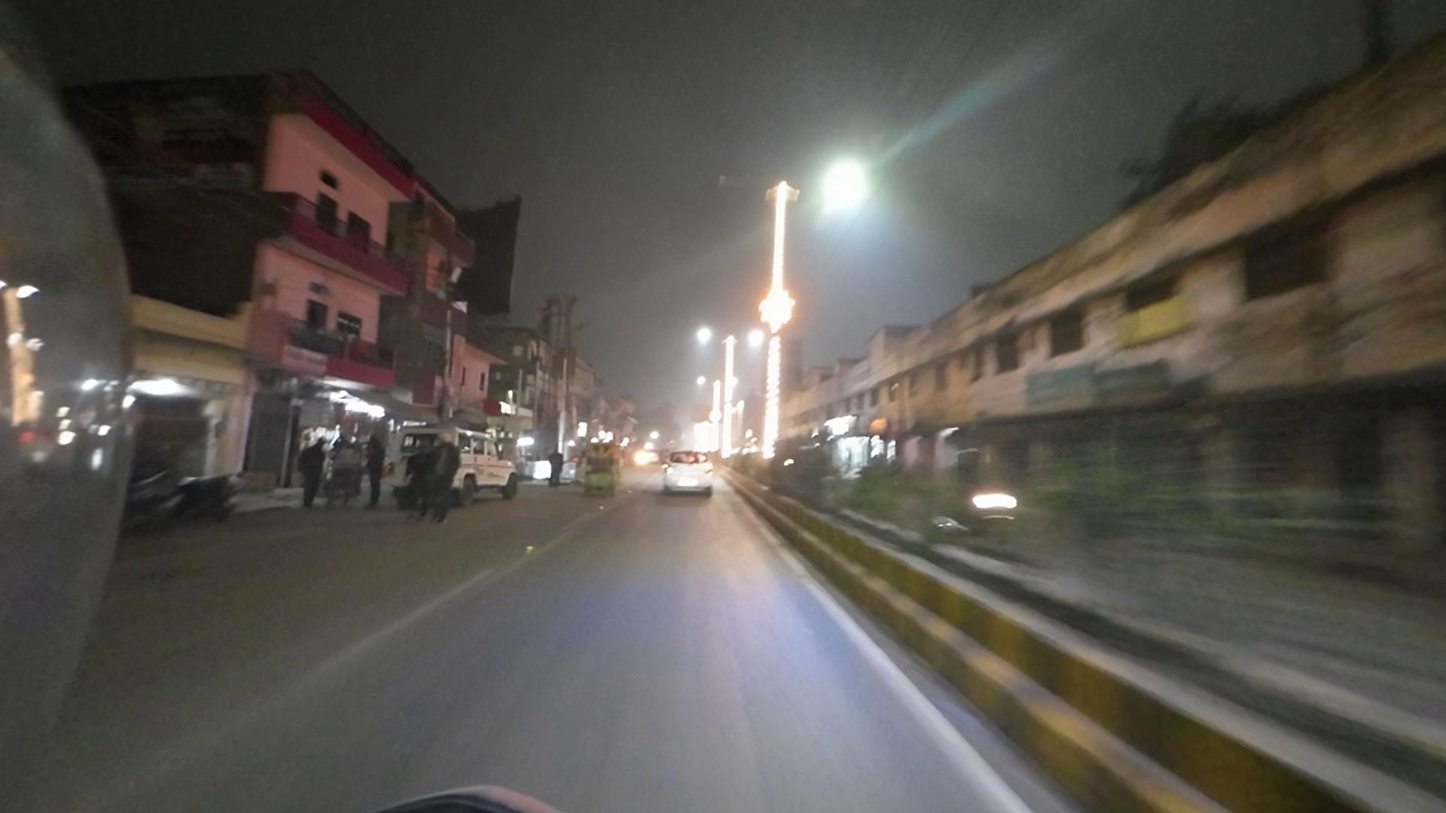streetlight: (715, 171, 771, 193)
